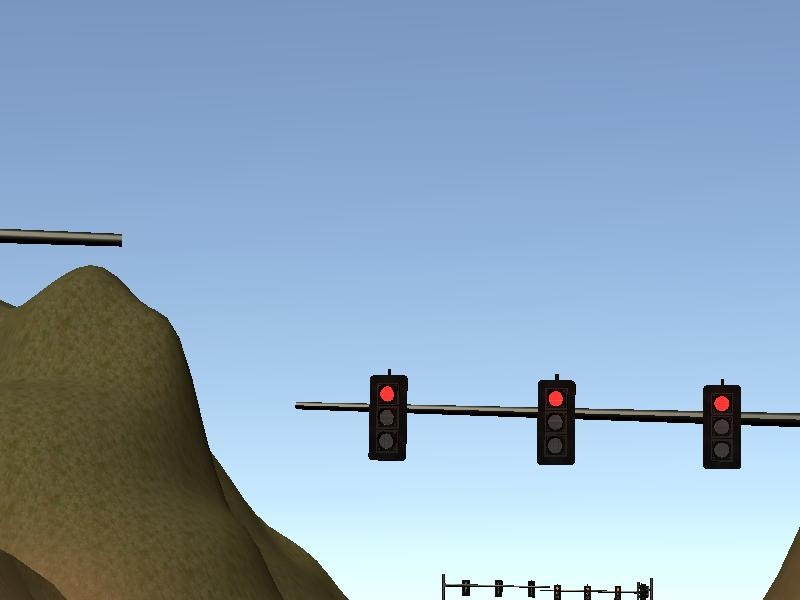red: (696, 381, 746, 475), (366, 371, 410, 464), (533, 378, 577, 468)
